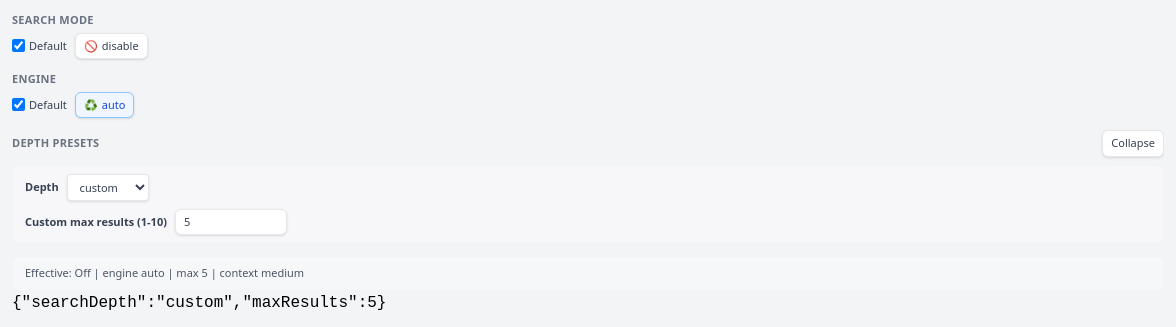
Test: WebSearchSettingsEditor › Depth keeps last valid custom value and backfills on next expand
Replace the text in the field with test id "search-max-results-input" with "7" at (231, 222), box left=175, top=208, right=287, bottom=235
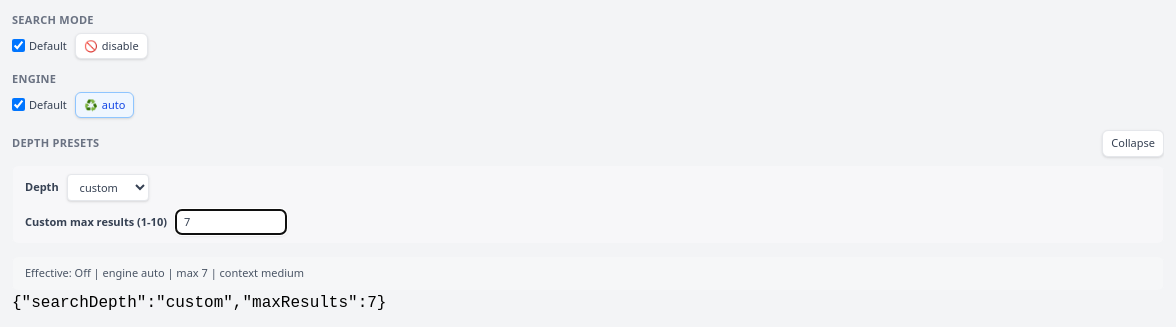
Select "medium" in the dropdown with test id "search-depth-select" at (108, 187), box left=67, top=174, right=149, bottom=200
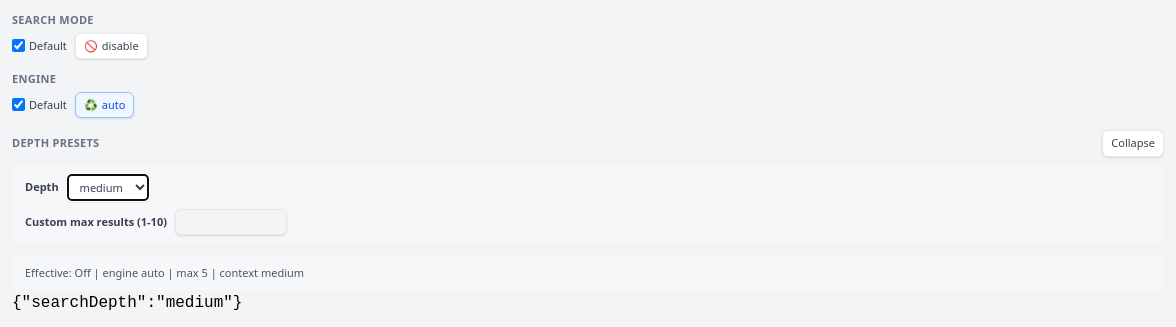
Click the button with test id "search-depth-panel-toggle".
click(1133, 143)  # box left=1102, top=130, right=1164, bottom=156
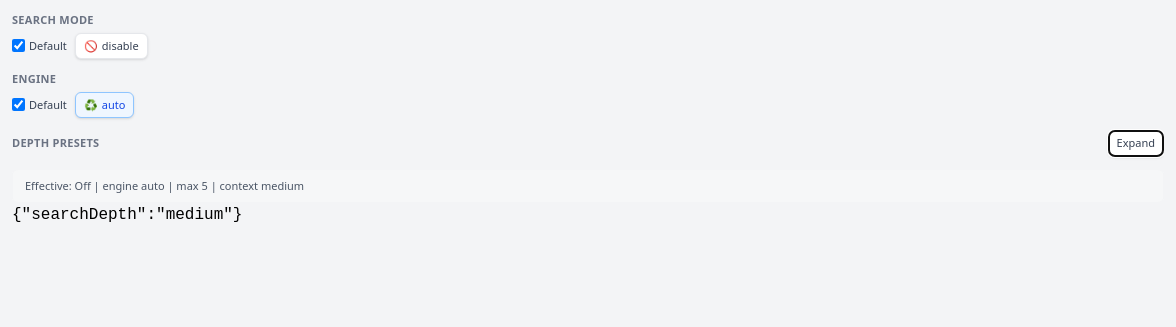
Result: the button with test id "search-depth-panel-toggle" is collapsed
Click the button with test id "search-depth-panel-toggle".
click(1136, 143)  # box left=1108, top=130, right=1164, bottom=156
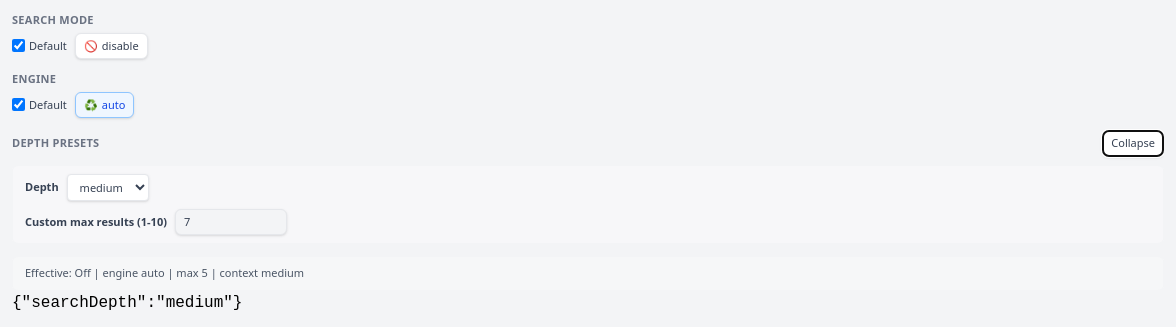
Result: the button with test id "search-depth-panel-toggle" is expanded at left=1102, top=130, right=1164, bottom=156
